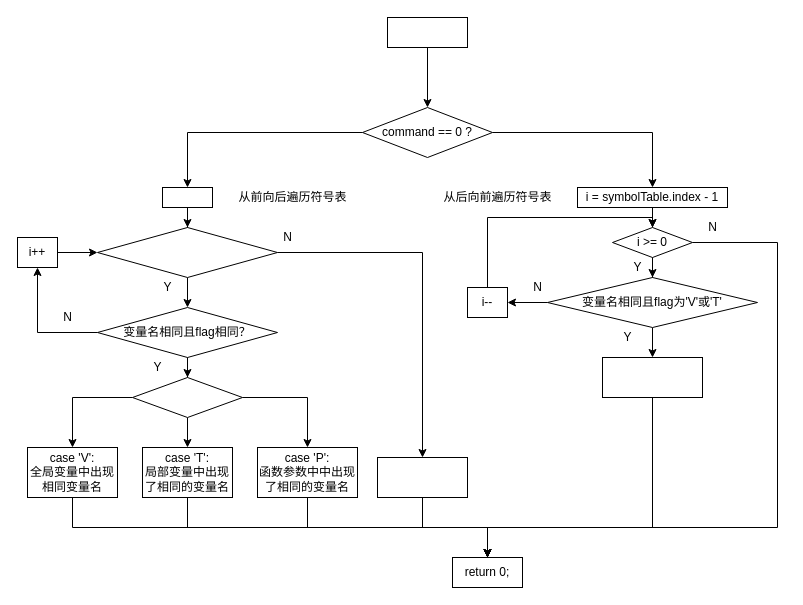
Some shapes in this 803 by 605 pixel diagram are drawn without their labels. Each missing label, with the centre of its shape:
case ID: the point at 427,32
i < symbolTable.index ?: the point at 187,252
i = 0: the point at 187,197
switch flag ?: the point at 187,397
在符号表种添加新符号: the point at 422,477
返回该变量的类型 return type: the point at 652,377
